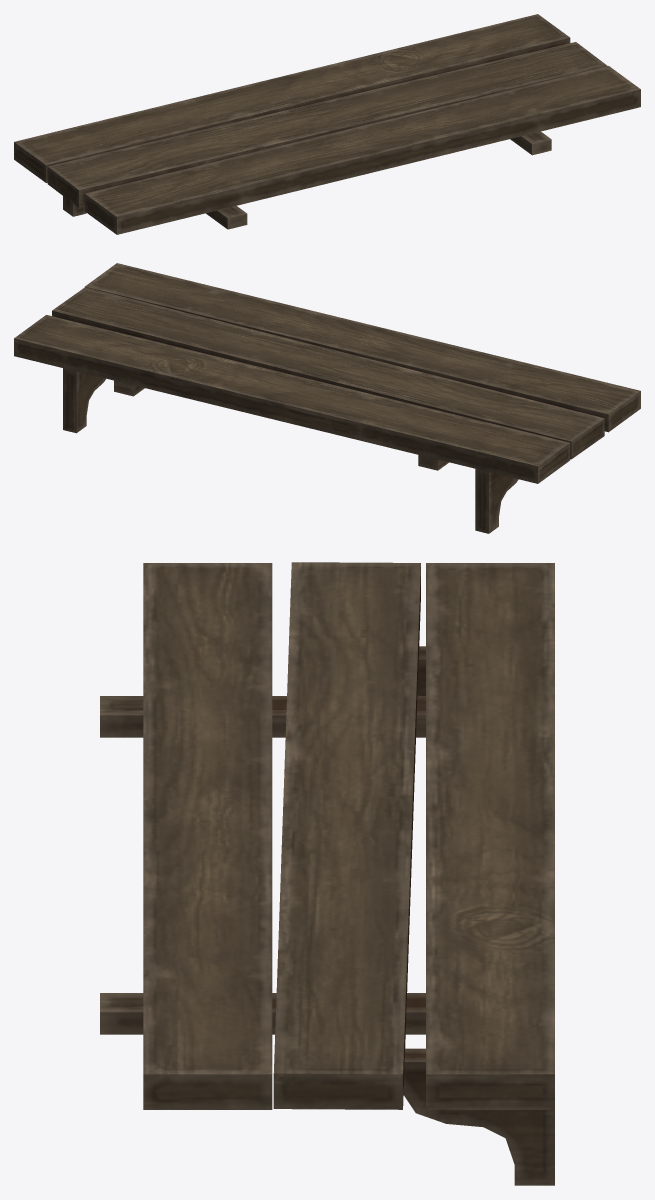
File: SM_WallShelf_00.fbx
The picture shows the model from 3 angles, top to bottom: view 1: azimuth 30°, elevation 25°; view 2: azimuth 150°, elevation 25°; view 3: azimuth 270°, elevation 25°; orthographic projection. The views are drawn at different scales.
Parts seen in each view (by area): view 1: SM_WallShelf_01; view 2: SM_WallShelf_01; view 3: SM_WallShelf_01.
Boxes of the visible parts, x1,y1,x2,y2 form: SM_WallShelf_01: (14,14,640,234); SM_WallShelf_01: (14,263,640,533); SM_WallShelf_01: (100,562,554,1185).
Size of the model in its own units: 172 by 25 by 64.76.
1 material, 1 textured.
